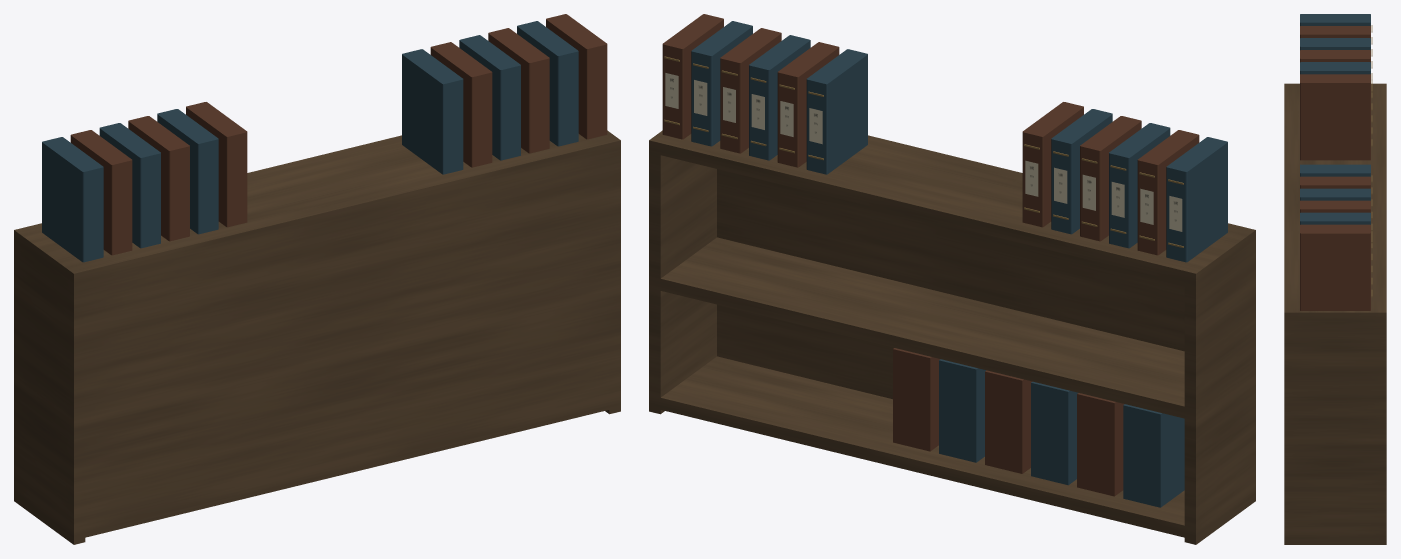
The model's file is SM_ArchiveProps_Bookcase_LOD1.glb.
3 views of the same model, side by side, from view 1: azimuth 30°, elevation 25°; view 2: azimuth 150°, elevation 25°; view 3: azimuth 270°, elevation 25° (orthographic). The views are drawn at different scales.
Visible parts, largest first — view 1: SM_ArchiveProps_Bookcase_LOD1; view 2: SM_ArchiveProps_Bookcase_LOD1; view 3: SM_ArchiveProps_Bookcase_LOD1.
Part boxes in pixels (<box>): SM_ArchiveProps_Bookcase_LOD1: <box>14,14,620,544</box>; SM_ArchiveProps_Bookcase_LOD1: <box>649,14,1255,544</box>; SM_ArchiveProps_Bookcase_LOD1: <box>1284,14,1386,544</box>.
Bounding box in the file's own units: 1.9 × 1.2 × 0.36.
Materials: 5 (2 with a texture image).
